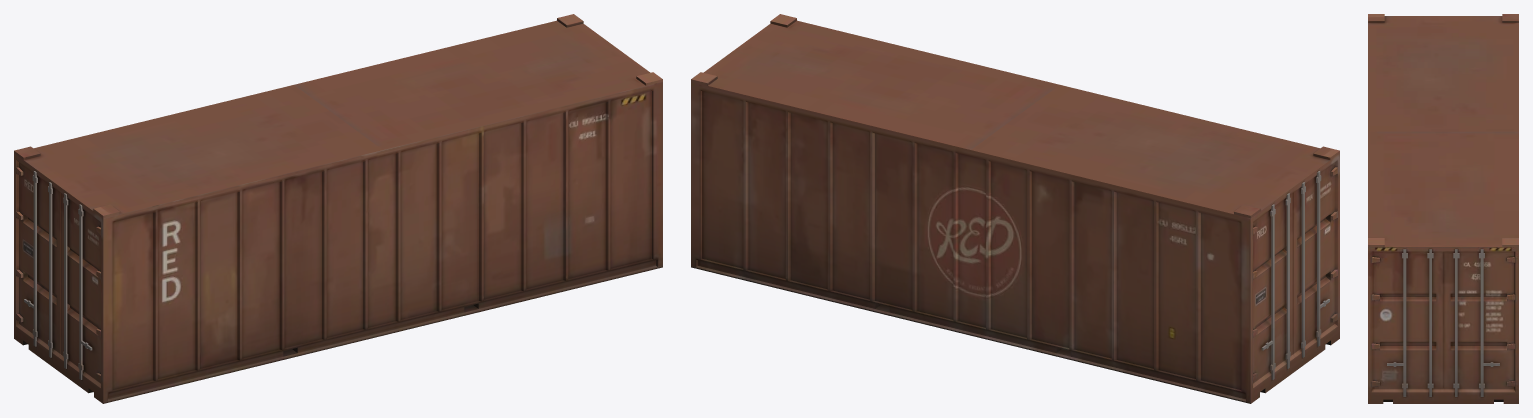
3 views of the same model, side by side, from view 1: azimuth 30°, elevation 25°; view 2: azimuth 150°, elevation 25°; view 3: azimuth 270°, elevation 25° (orthographic). The views are drawn at different scales.
Parts seen in each view (by area): view 1: body0_model0_lod0_mesh0; view 2: body0_model0_lod0_mesh0; view 3: body0_model0_lod0_mesh0.
Boxes of the visible parts, x1,y1,x2,y2 form: body0_model0_lod0_mesh0: (14,14,662,403); body0_model0_lod0_mesh0: (691,14,1339,403); body0_model0_lod0_mesh0: (1368,14,1518,403).
Bounding box in the file's own units: 29.13 × 9.31 × 8.
1 material, 1 textured.
